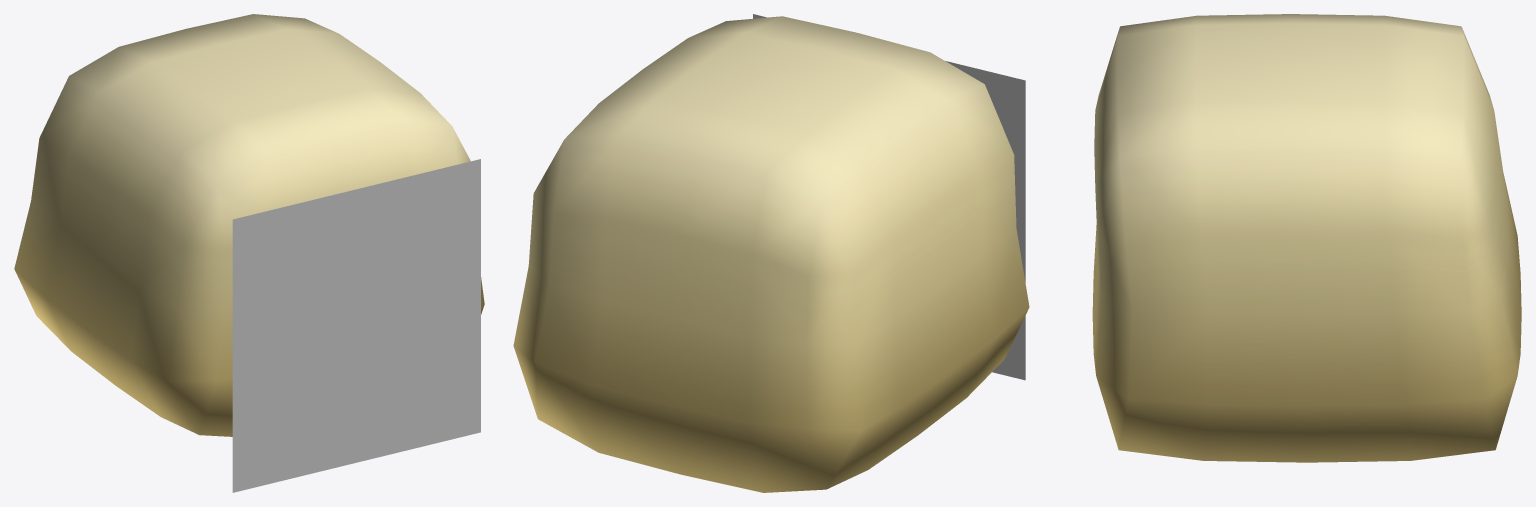
File: Blob_Yellow.fbx
3 views of the same model, side by side, from view 1: azimuth 30°, elevation 25°; view 2: azimuth 150°, elevation 25°; view 3: azimuth 270°, elevation 25° (orthographic). The views are drawn at different scales.
Parts seen in each view (by area): view 1: Blob_Yellow, Eyes_Yellow; view 2: Blob_Yellow, Eyes_Yellow; view 3: Blob_Yellow.
Boxes of the visible parts, x1=… form: Blob_Yellow: x1=14, y1=14, x2=484, y2=436; Eyes_Yellow: x1=232, y1=159, x2=480, y2=492; Blob_Yellow: x1=513, y1=16, x2=1029, y2=492; Eyes_Yellow: x1=753, y1=14, x2=1025, y2=380; Blob_Yellow: x1=1092, y1=14, x2=1521, y2=462.
Bounding box in the file's own units: 1.04 × 0.9706 × 1.12.
